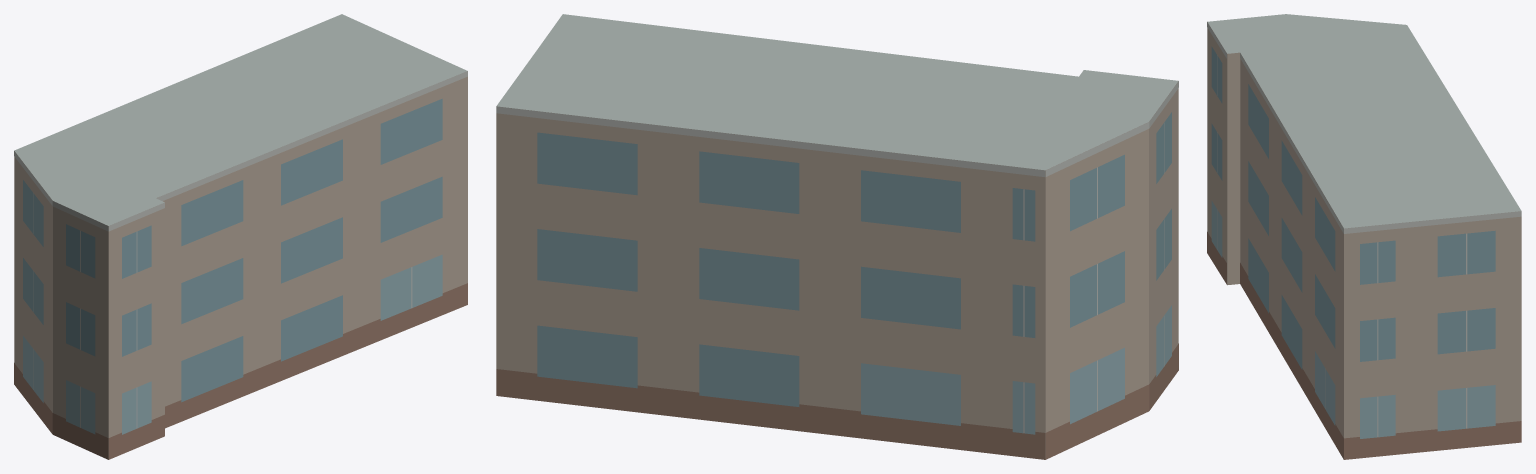
The model's file is survey-upis-32650420.glb.
3 views of the same model, side by side, from view 1: azimuth 30°, elevation 25°; view 2: azimuth 150°, elevation 25°; view 3: azimuth 270°, elevation 25° (orthographic). The views are drawn at different scales.
Visible parts, largest first — view 1: survey-upis-32650420.tmp; view 2: survey-upis-32650420.tmp; view 3: survey-upis-32650420.tmp.
Boxes of the visible parts, x1,y1,x2,y2 form: survey-upis-32650420.tmp: [14, 14, 467, 459]; survey-upis-32650420.tmp: [496, 14, 1178, 459]; survey-upis-32650420.tmp: [1207, 14, 1521, 459].
Bounding box in the file's own units: 20.29 × 10.2 × 12.58.
